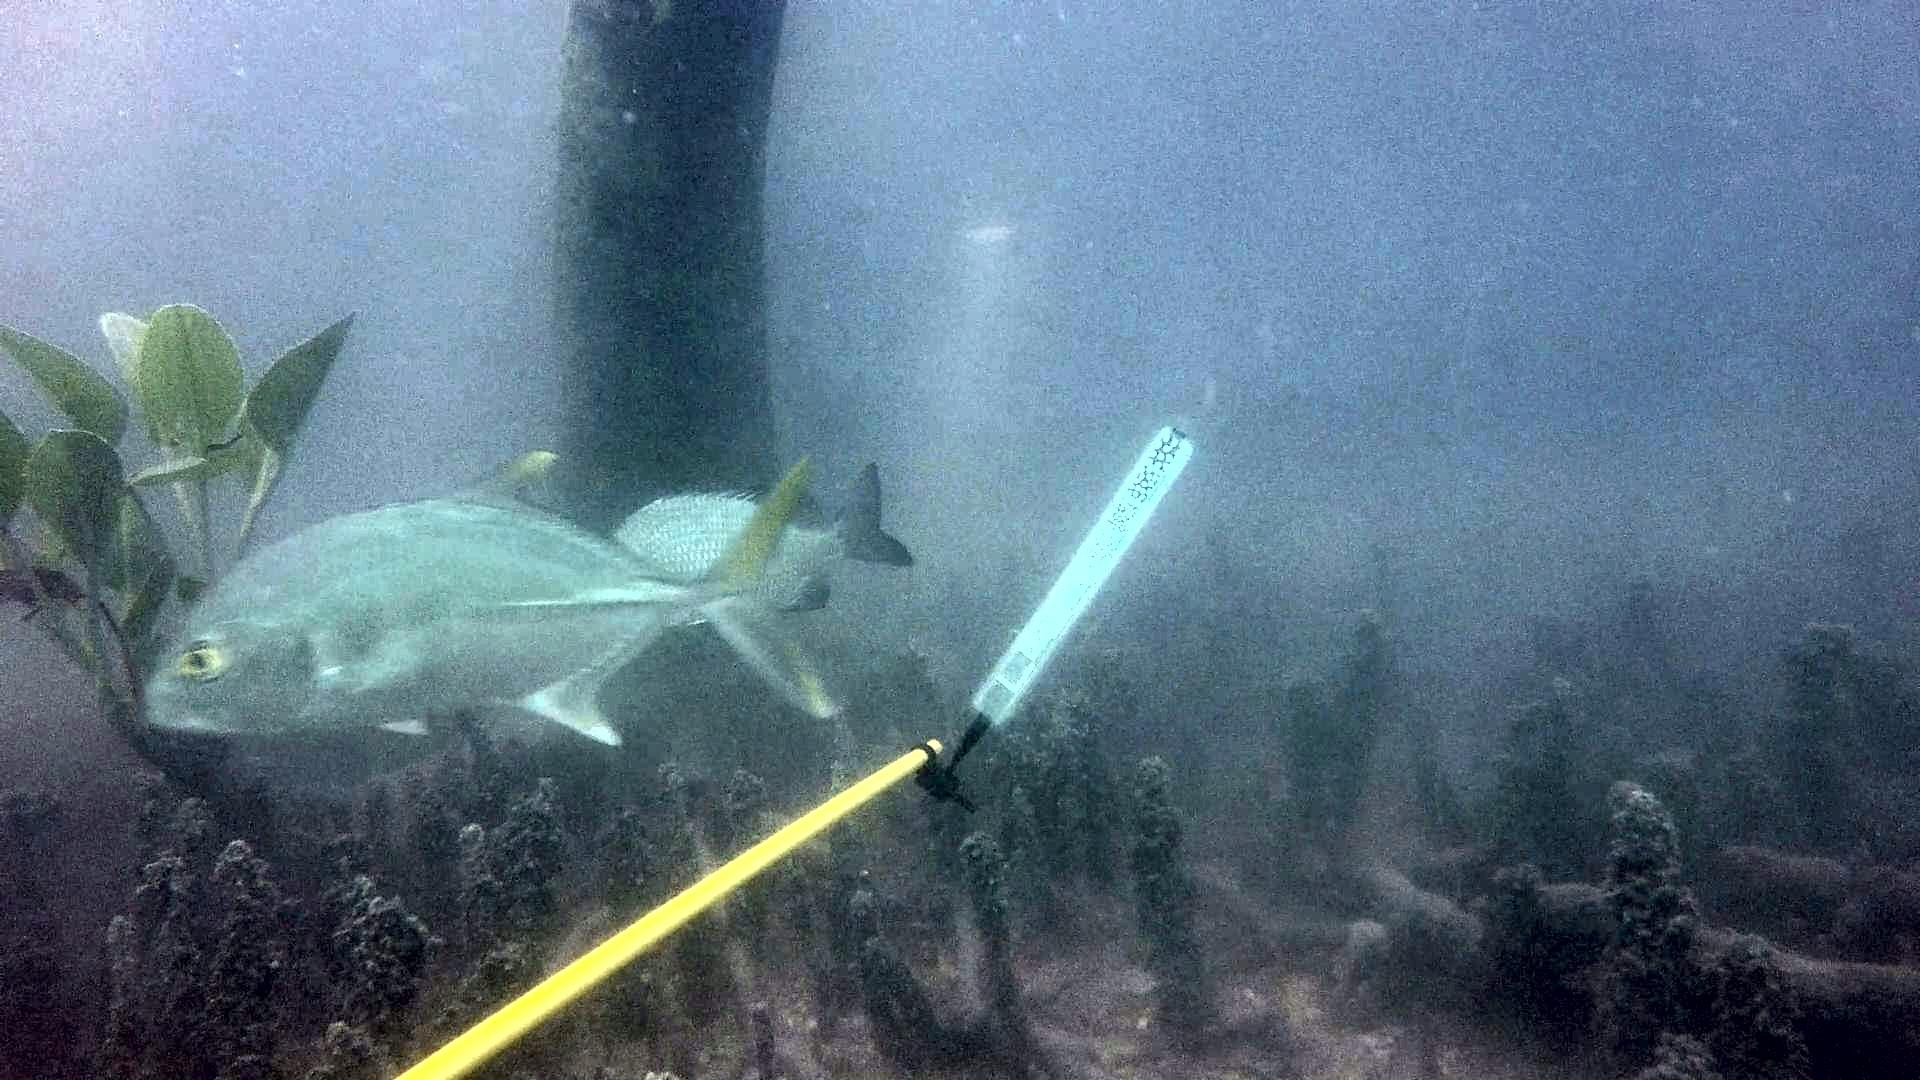caranx: (133, 438, 853, 757)
